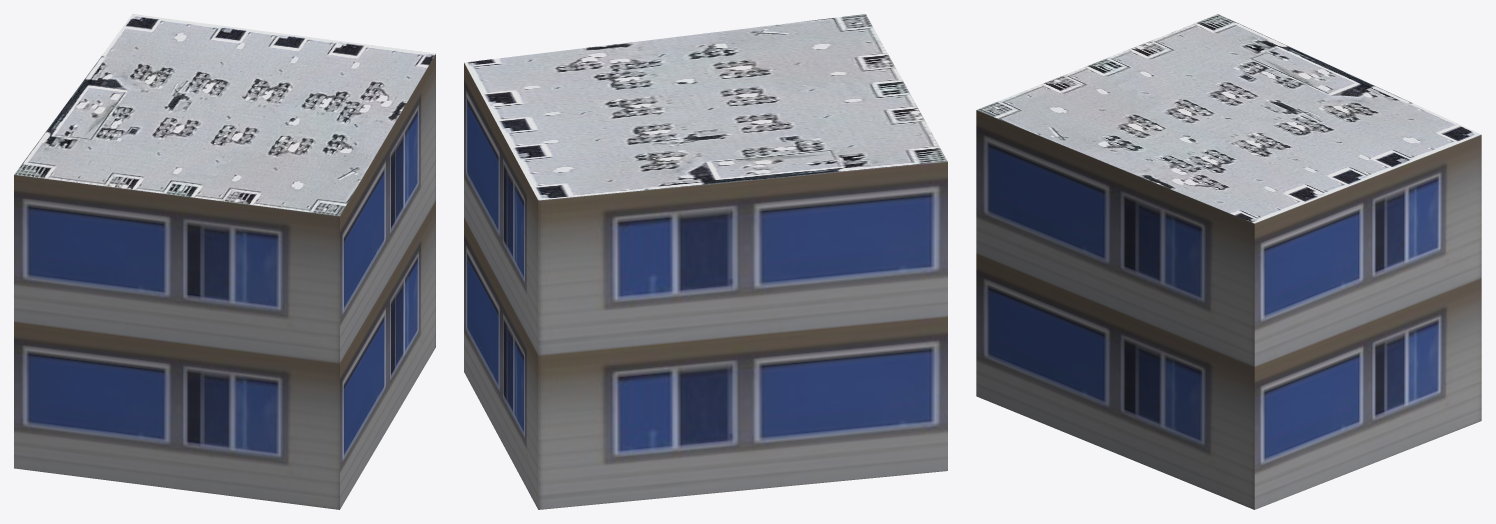
Rendered from ResTex__1254.fbx.
The picture shows the model from 3 angles, left to right: view 1: azimuth 30°, elevation 25°; view 2: azimuth 150°, elevation 25°; view 3: azimuth 270°, elevation 25°; orthographic projection. The views are drawn at different scales.
Parts seen in each view (by area): view 1: CityEngineMaterial_23_m, CityEngineMaterial_4_m; view 2: CityEngineMaterial_23_m, CityEngineMaterial_4_m; view 3: CityEngineMaterial_23_m, CityEngineMaterial_4_m.
Boxes of the visible parts, <box> form: CityEngineMaterial_23_m: <box>14,54,435,509</box>; CityEngineMaterial_4_m: <box>14,14,435,216</box>; CityEngineMaterial_23_m: <box>464,63,947,509</box>; CityEngineMaterial_4_m: <box>464,14,947,200</box>; CityEngineMaterial_23_m: <box>976,110,1481,509</box>; CityEngineMaterial_4_m: <box>977,14,1481,223</box>.
Size of the model in its own units: 9.42 by 6 by 9.59.
2 materials, 2 textured.
